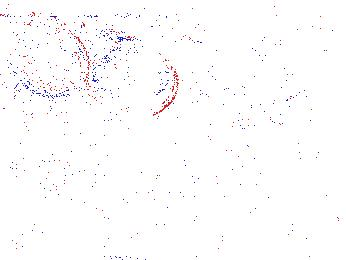moon jellyfish: (86, 43, 179, 120), (195, 45, 302, 107), (11, 27, 90, 98)
